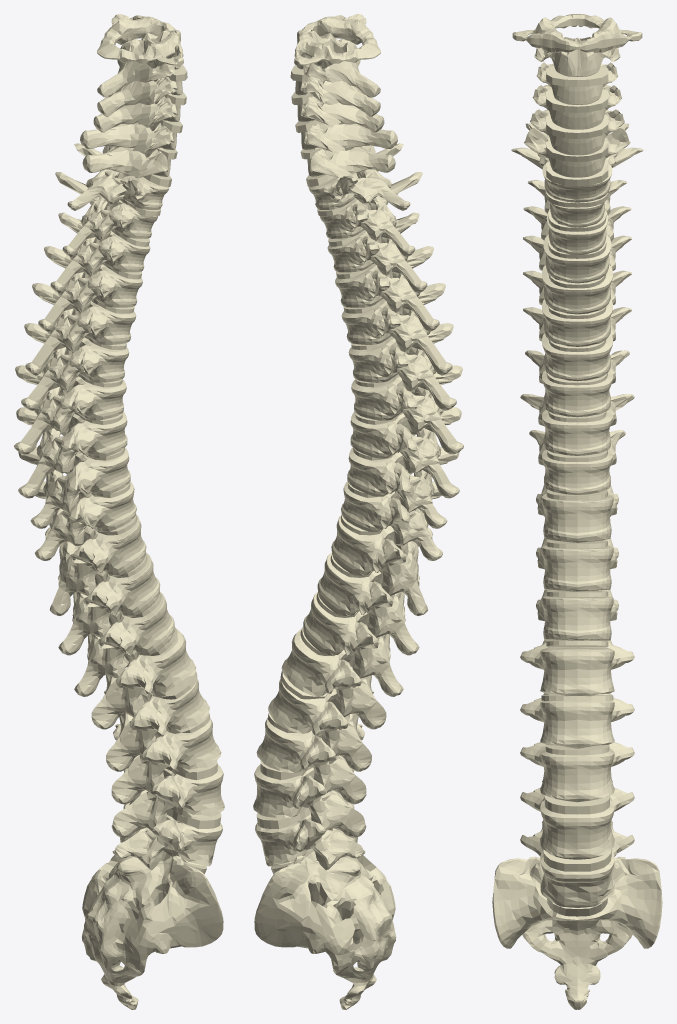
The model's file is spine.glb.
3 views of the same model, side by side, from view 1: azimuth 30°, elevation 25°; view 2: azimuth 150°, elevation 25°; view 3: azimuth 270°, elevation 25° (orthographic).
Parts seen in each view (by area): view 1: 3DSMeshMatrix (×28); view 2: 3DSMeshMatrix (×28); view 3: 3DSMeshMatrix (×28).
Boxes of the visible parts, x1,y1,x2,y2 form: 3DSMeshMatrix (×28): (14, 14, 224, 1009); 3DSMeshMatrix (×28): (253, 14, 463, 1009); 3DSMeshMatrix (×28): (492, 14, 662, 1009).
Size of the model in its own units: 5.73 by 26.67 by 4.14.
1 material, 1 textured.
